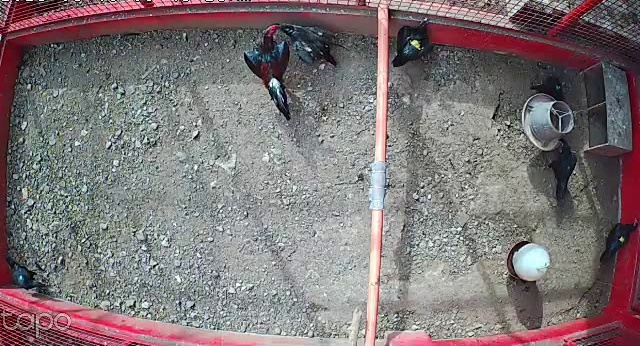Chicken: (280, 18, 345, 68), (538, 137, 579, 204), (390, 12, 434, 71), (593, 215, 639, 268), (528, 73, 572, 106)
Rooster: (237, 19, 295, 119)
Saddle_Color_Yellow: (405, 32, 424, 50)
